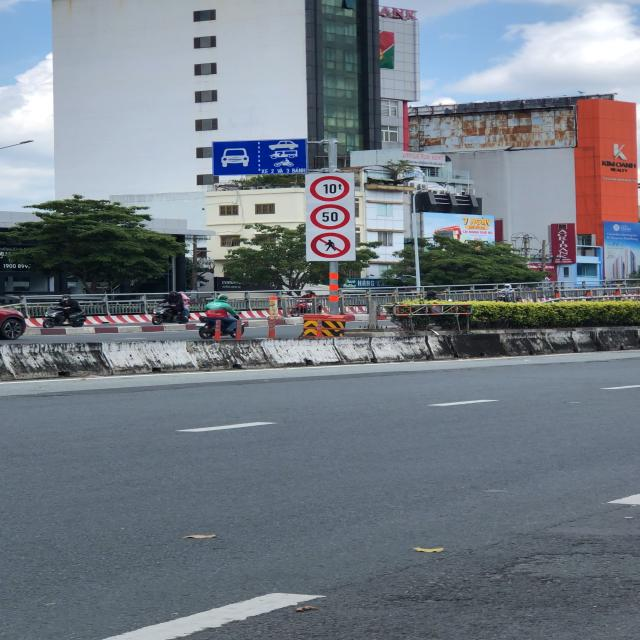Bien bao cam nguoi di bo: (309, 232, 357, 259)
Bien bao toc do toi da cho phep: (309, 201, 354, 232)
